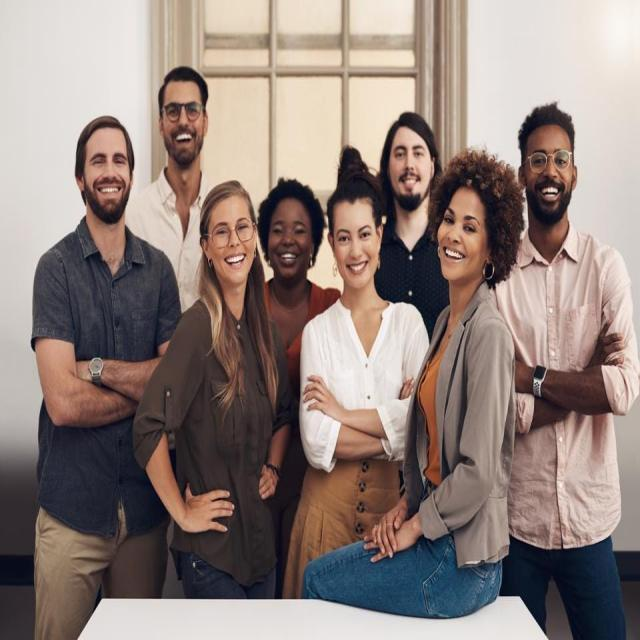No_BreathingApparatus: (79, 137, 132, 220), (206, 207, 256, 279), (265, 208, 315, 278), (156, 96, 205, 164)
No_Glove: (371, 501, 419, 560), (182, 485, 236, 536), (300, 371, 339, 423), (256, 460, 281, 504)
No_Goggles: (82, 147, 129, 172), (441, 211, 486, 237), (209, 217, 253, 240), (332, 222, 373, 246), (270, 217, 310, 237), (160, 100, 204, 118), (390, 144, 428, 164)
No_Helmet: (510, 99, 580, 150), (74, 108, 137, 149), (377, 102, 437, 145), (266, 175, 322, 218), (150, 59, 215, 95), (200, 178, 255, 215)
Person: (39, 150, 173, 579), (184, 195, 295, 600), (310, 208, 419, 599)
